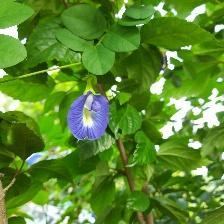shankupushpam: (67, 89, 113, 145)
